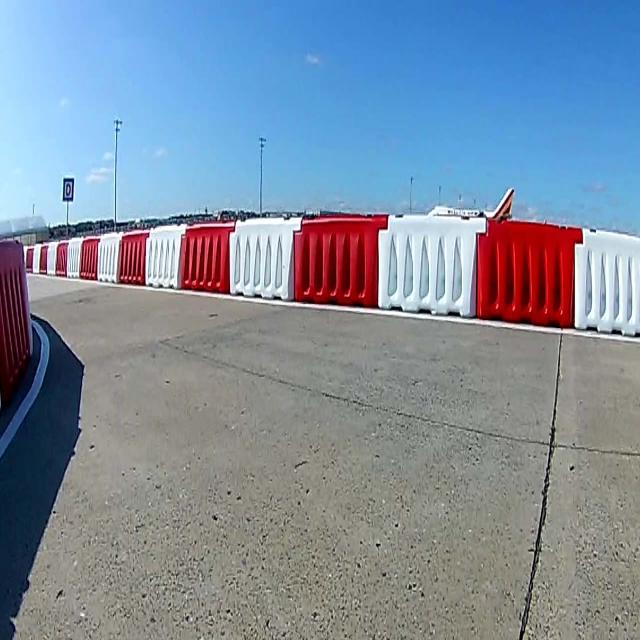durak: (62, 176, 75, 203)
